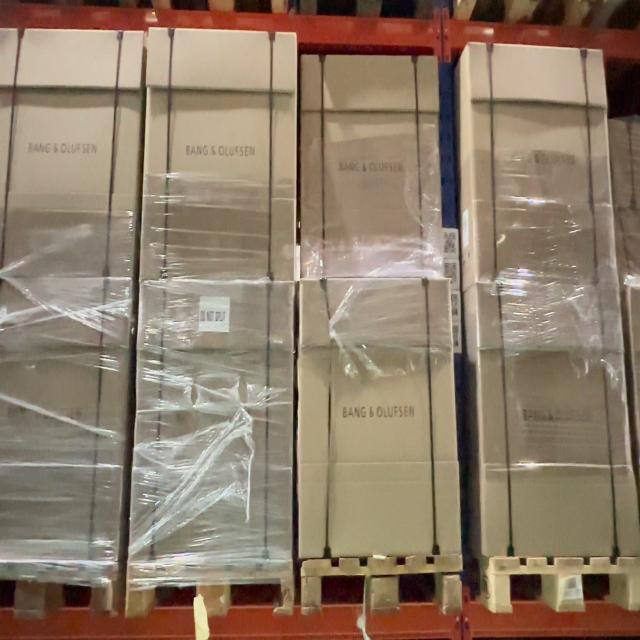box: (129, 281, 295, 563), (299, 278, 461, 561), (478, 284, 640, 558), (139, 28, 298, 281), (468, 42, 619, 292), (300, 55, 444, 280)
